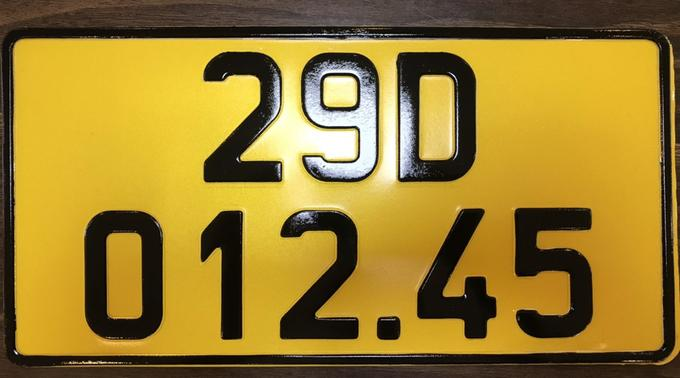plate: (2, 29, 677, 366)
